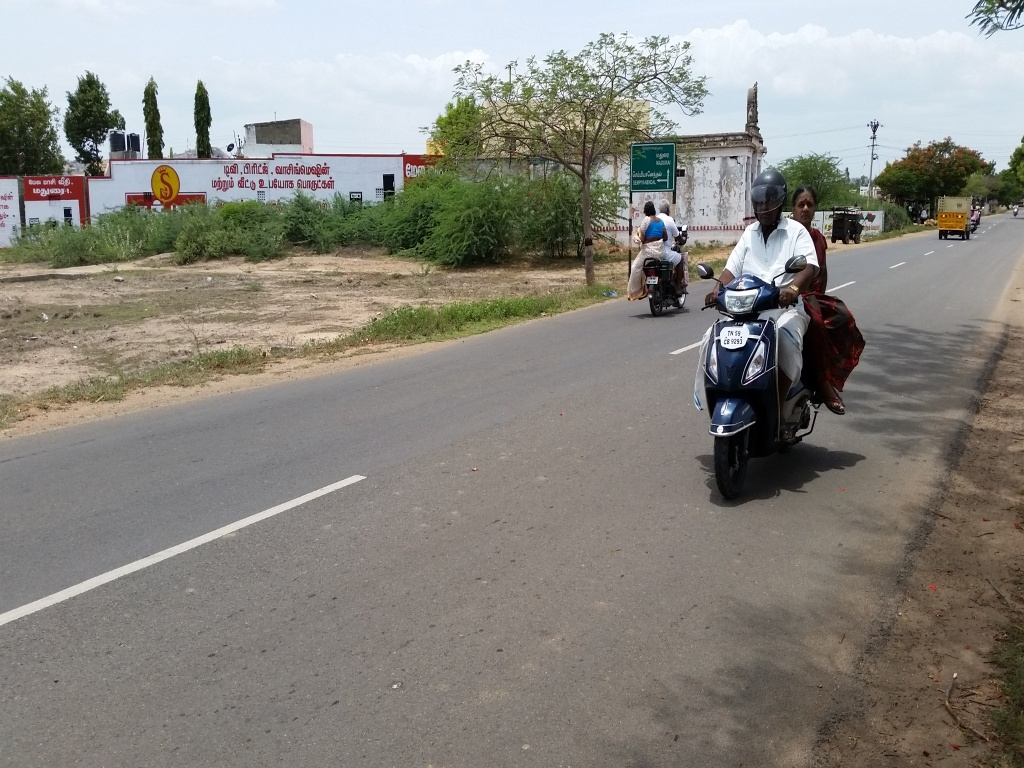biker: (699, 139, 877, 507), (618, 182, 697, 327)
helmet: (742, 166, 791, 235)
nohelmet: (791, 173, 820, 236), (640, 192, 658, 225), (655, 191, 673, 224)
